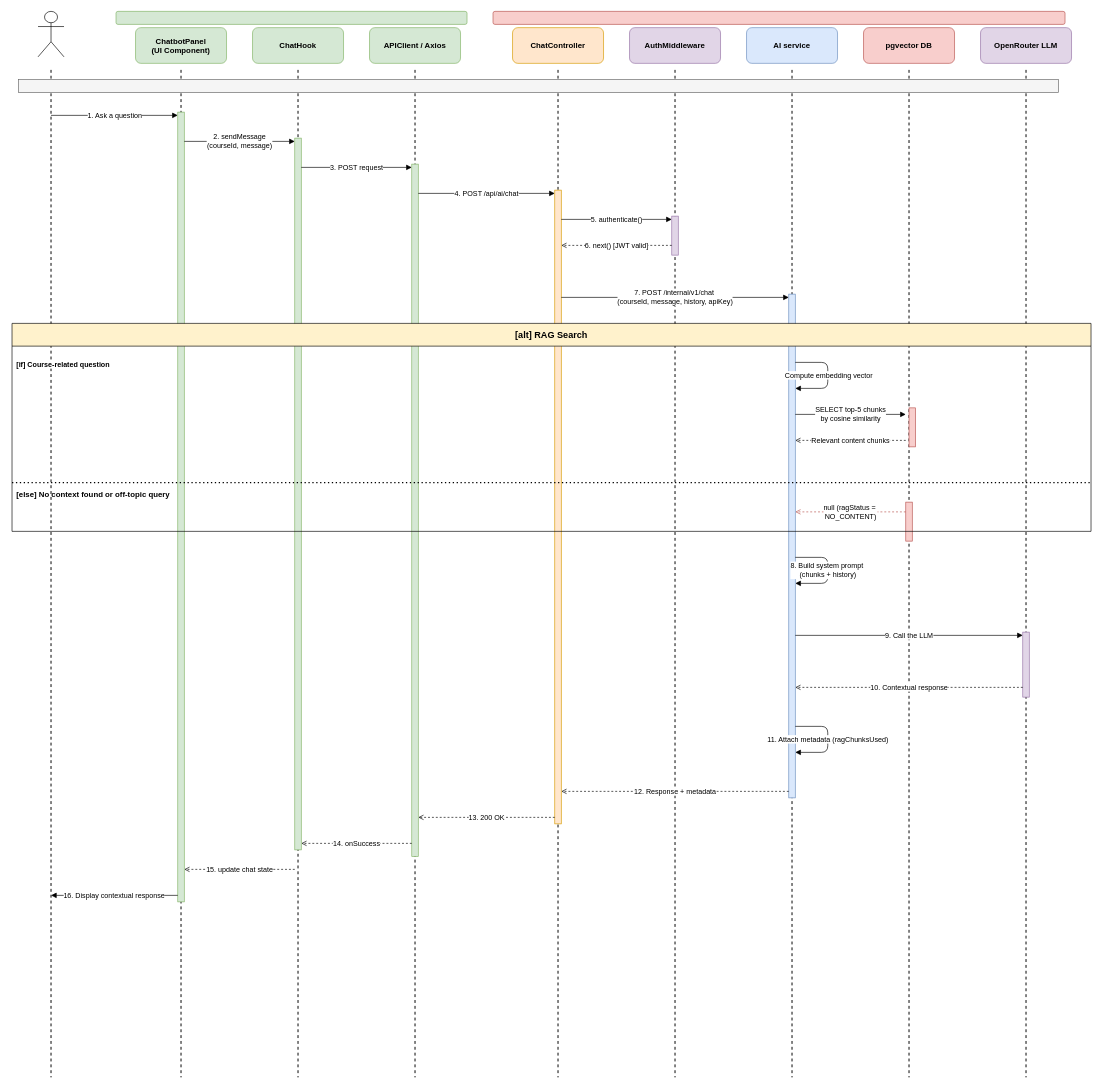
Image size: 1102x1090. Some labels were removed from this diagram. Here are the shapes that lost their labels. From the top down, the centre of each, then its label:
(50,34): Student
(291,17): Frontend
(778,17): Backend + AI Services
(538,86): Phase 2 — Student Conversation with RAG AI
